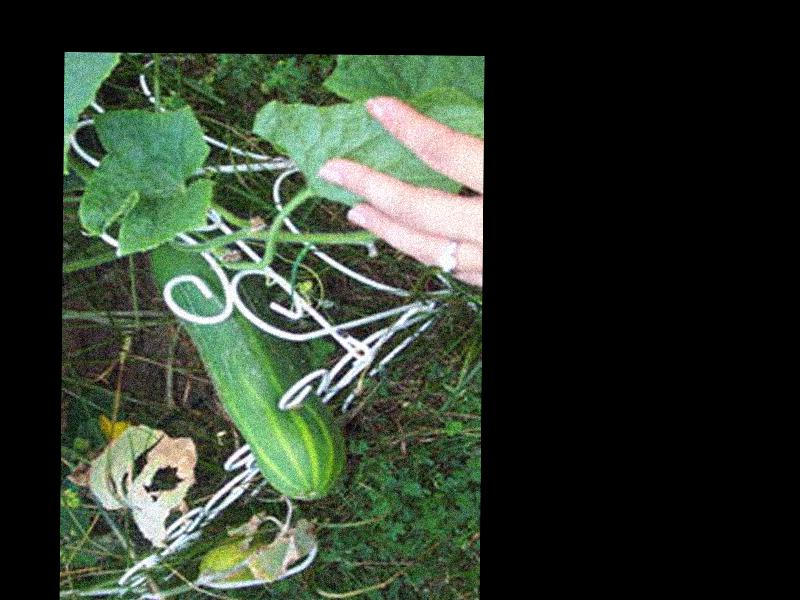Cucumber: (146, 239, 346, 500)
